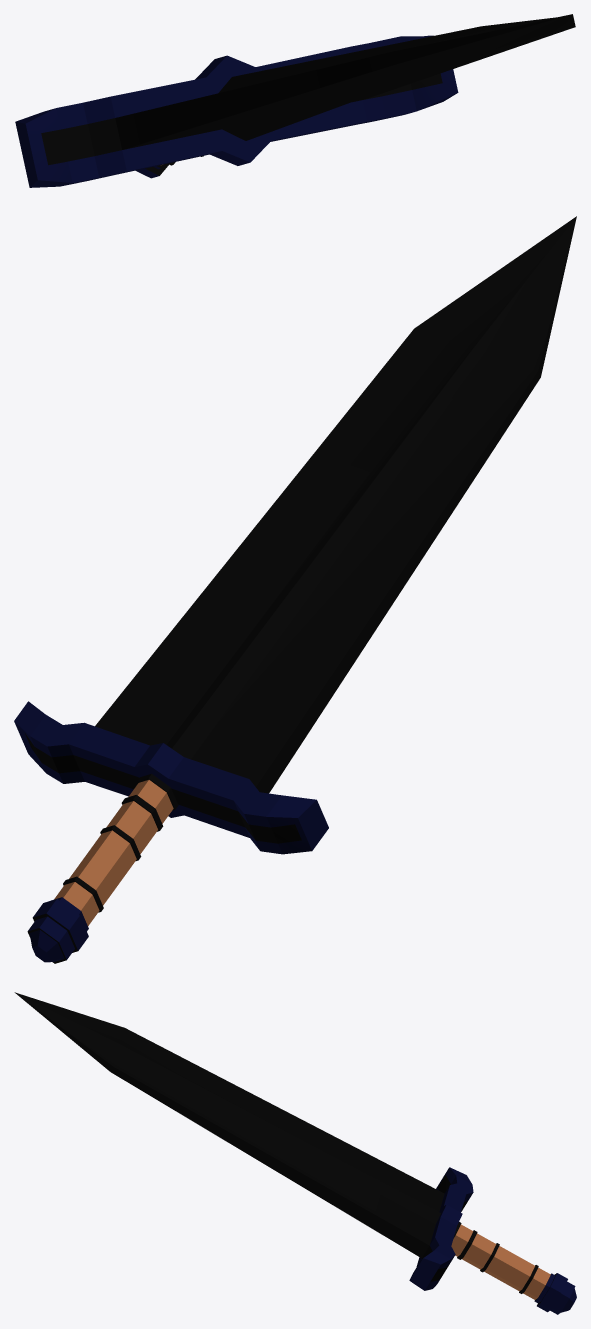
The model's file is lowPolyGreatSword.fbx.
3 views of the same model, one above another, from view 1: azimuth 30°, elevation 25°; view 2: azimuth 150°, elevation 25°; view 3: azimuth 270°, elevation 25° (orthographic). The views are drawn at different scales.
Parts seen in each view (by area): view 1: GreatSword; view 2: GreatSword; view 3: GreatSword.
Part boxes in pixels (box(x1,y1,x2,y2)): GreatSword: box(15, 14, 575, 187); GreatSword: box(14, 216, 576, 963); GreatSword: box(14, 992, 576, 1314).
Size of the model in its own units: 43.19 by 60.97 by 106.
